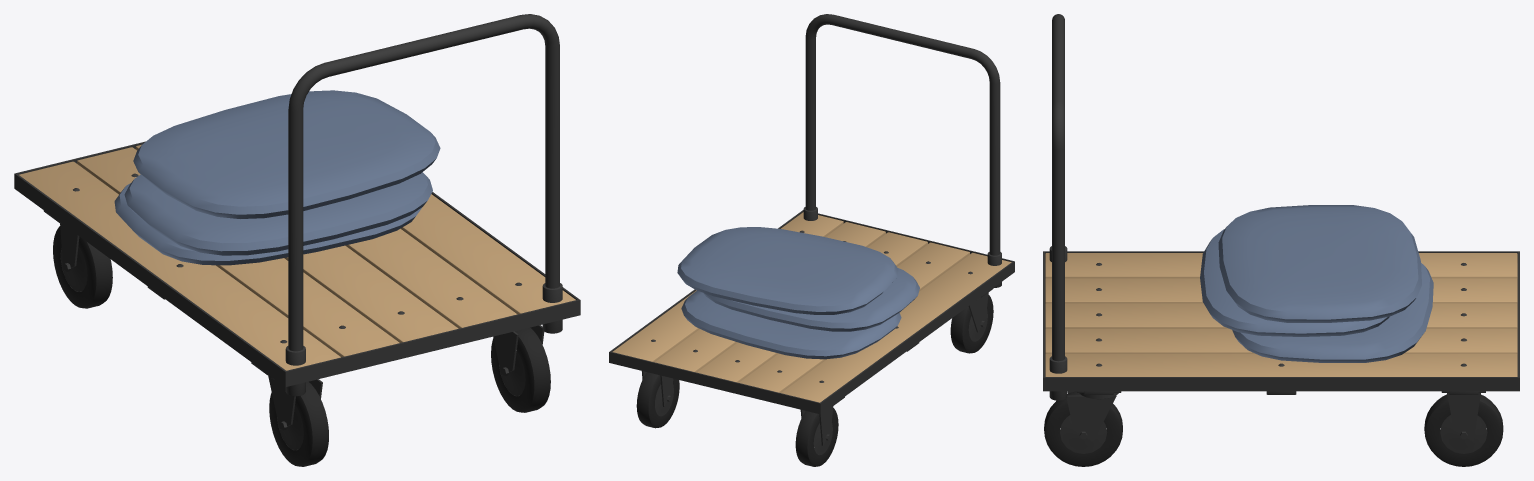
Rendered from Kit_PlatformTruck_Pads.fbx.
3 views of the same model, side by side, from view 1: azimuth 30°, elevation 25°; view 2: azimuth 150°, elevation 25°; view 3: azimuth 270°, elevation 25° (orthographic). The views are drawn at different scales.
Parts seen in each view (by area): view 1: Kit_PlatformTruck_Pads_LOD0; view 2: Kit_PlatformTruck_Pads_LOD0; view 3: Kit_PlatformTruck_Pads_LOD0.
Boxes of the visible parts, left/top/right/bottom form: Kit_PlatformTruck_Pads_LOD0: left=14, top=14, right=580, bottom=466; Kit_PlatformTruck_Pads_LOD0: left=609, top=14, right=1014, bottom=466; Kit_PlatformTruck_Pads_LOD0: left=1043, top=14, right=1519, bottom=466.
Size of what is drawn, in the model's own units: 0.7716 by 1.02 by 1.23.
